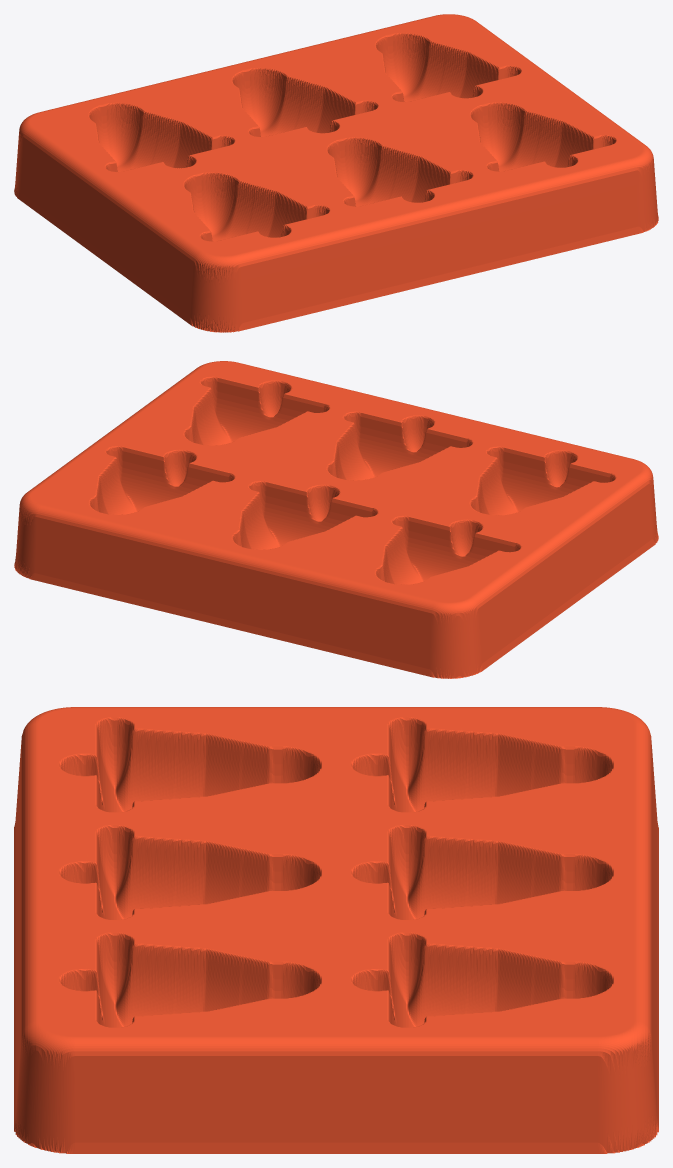
Rendered from mold.glb.
3 renders of one model, top to bottom at view 1: azimuth 30°, elevation 25°; view 2: azimuth 150°, elevation 25°; view 3: azimuth 270°, elevation 25°, orthographic. The views are drawn at different scales.
Parts seen in each view (by area): view 1: geometry_0; view 2: geometry_0; view 3: geometry_0.
Part boxes in pixels (x1,y1,x2,y2): geometry_0: [14, 14, 658, 332]; geometry_0: [14, 361, 658, 678]; geometry_0: [14, 707, 658, 1153].
Size of the model in its own units: 0.122 by 0.0175 by 0.0955.
